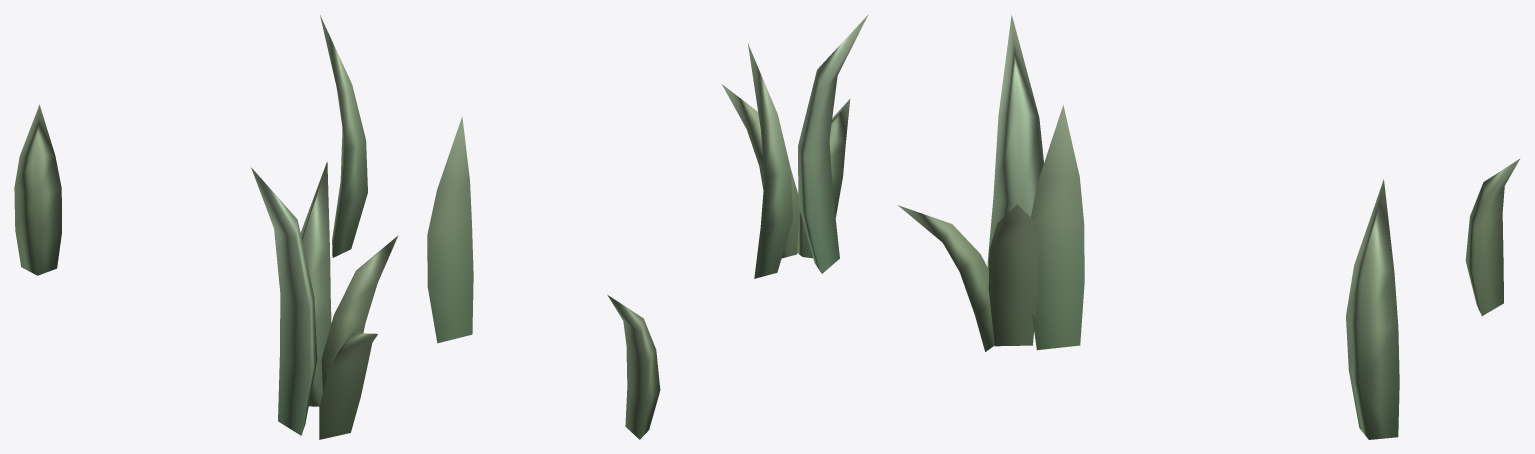
File: SM_Grass_02.fbx
3 renders of one model, left to right at view 1: azimuth 30°, elevation 25°; view 2: azimuth 150°, elevation 25°; view 3: azimuth 270°, elevation 25°, orthographic. The views are drawn at different scales.
Parts seen in each view (by area): view 1: SM_Grass_02; view 2: SM_Grass_02; view 3: SM_Grass_02.
Part boxes in pixels (bbox=[...]): SM_Grass_02: bbox=[14, 15, 398, 439]; SM_Grass_02: bbox=[427, 14, 868, 439]; SM_Grass_02: bbox=[898, 15, 1520, 439].
Size of the model in its own units: 112 by 104 by 200.
Materials: 1 (1 with a texture image).
